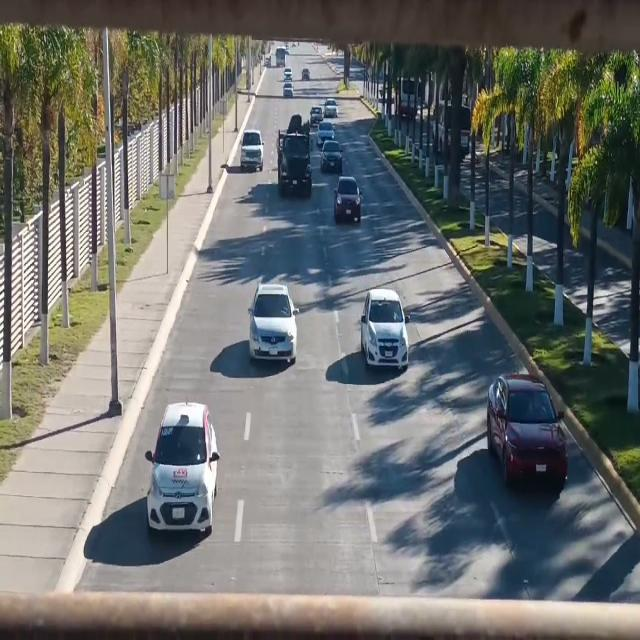Auto: (148, 404, 216, 535), (490, 374, 566, 478), (362, 288, 410, 372), (249, 286, 298, 368), (332, 176, 363, 224), (238, 132, 263, 174), (320, 140, 344, 174), (314, 121, 338, 144), (323, 96, 339, 117), (311, 106, 322, 125), (283, 82, 294, 100)
